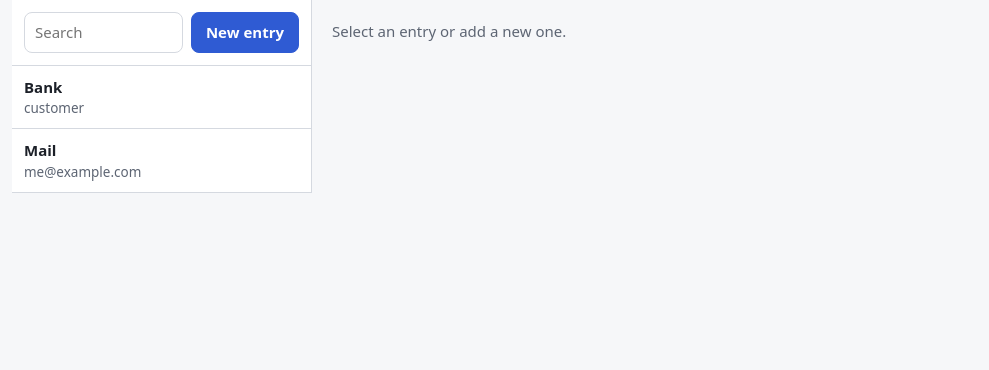
Scenario: PasswordsTab › copies the password through the core and says when it is cleared
What coordinates should you click on to do the following:
click the button "Mail me@example.com"
I would click on:
 (40, 150)
Its box is top-left (12, 129), bottom-right (311, 193).
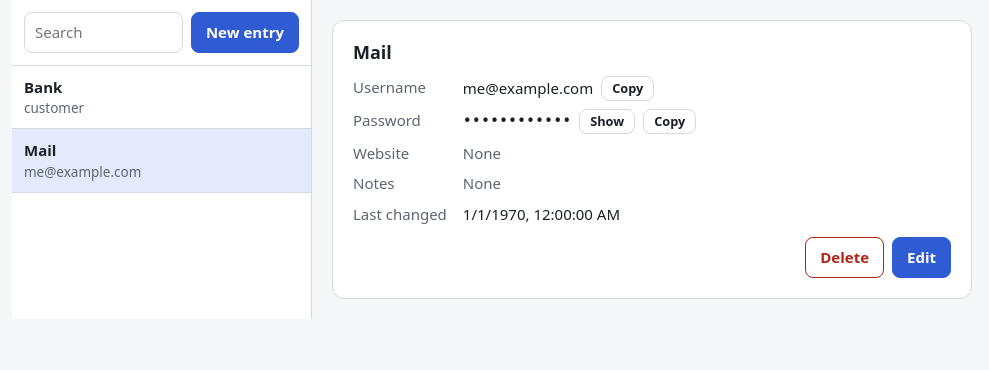
What coordinates should you click on to do the following:
click the button with aria-label "Copy password"
I would click on:
 (670, 121)
Its box is top-left (643, 109), bottom-right (696, 134).
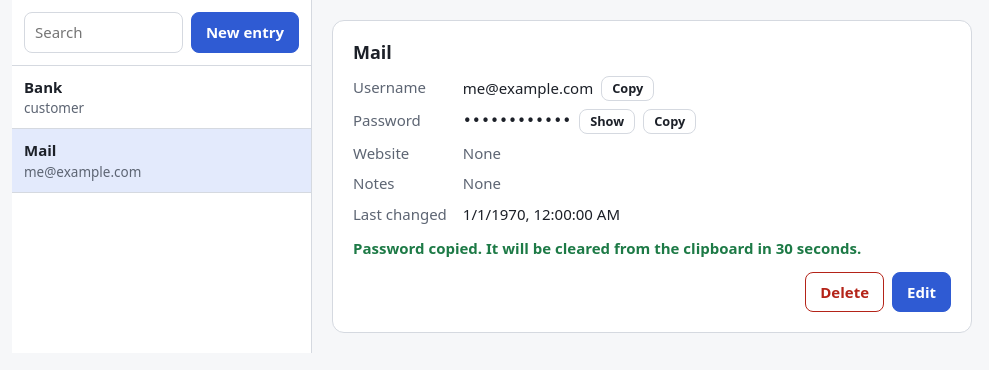
Result: the message reads "Password copied. It will be cleared from the clipboard in 30 seconds." at top-left (353, 238), bottom-right (861, 258)
